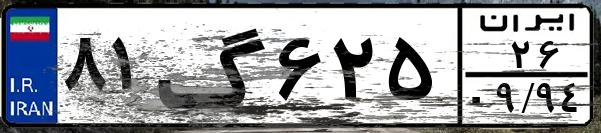0: (470, 70, 495, 125)
1: (110, 28, 156, 98)
2: (330, 28, 385, 110), (508, 27, 537, 80)
4: (560, 70, 590, 125)
5: (385, 28, 445, 110)
6: (270, 28, 330, 110), (537, 27, 568, 80)
8: (57, 26, 110, 100)
9: (495, 70, 520, 125), (535, 70, 560, 125)
گ: (156, 12, 270, 120)
